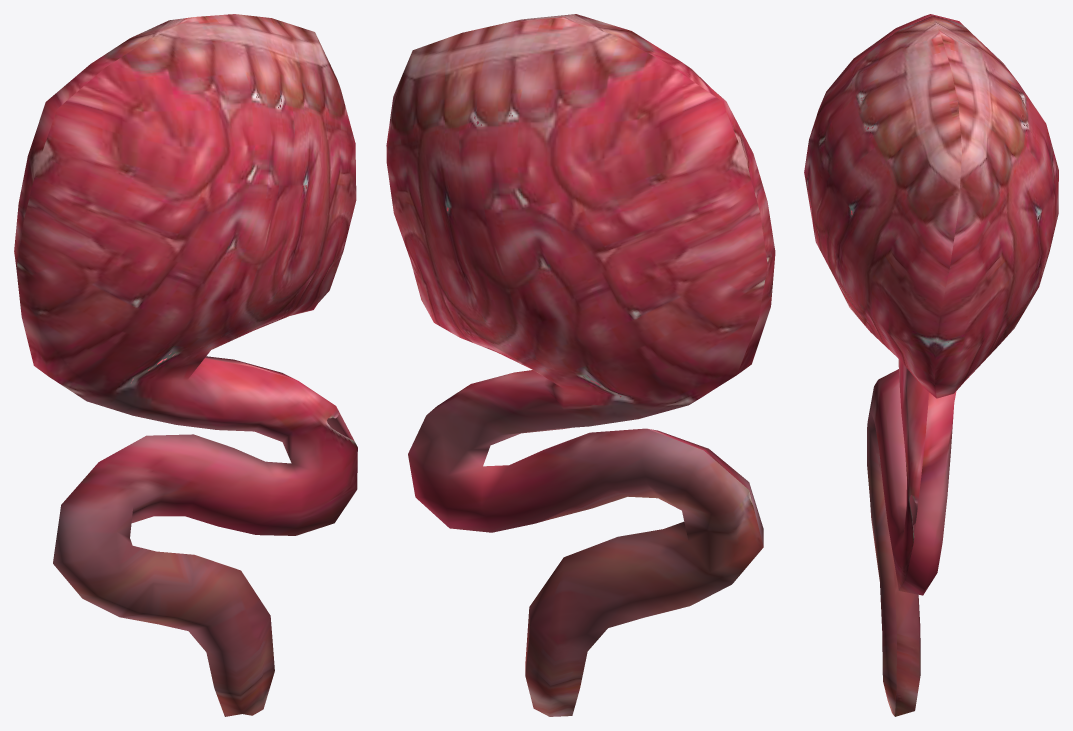
Rendered from Intestines reg mesh.fbx.
3 views of the same model, side by side, from view 1: azimuth 30°, elevation 25°; view 2: azimuth 150°, elevation 25°; view 3: azimuth 270°, elevation 25° (orthographic). The views are drawn at different scales.
Visible parts, largest first — view 1: Intestines; view 2: Intestines; view 3: Intestines.
Boxes of the visible parts, x1,y1,x2,y2 form: Intestines: (14,14,357,716); Intestines: (386,14,775,716); Intestines: (804,14,1058,716).
Bounding box in the file's own units: 128 × 241 × 83.88.
Materials: 1 (1 with a texture image).
